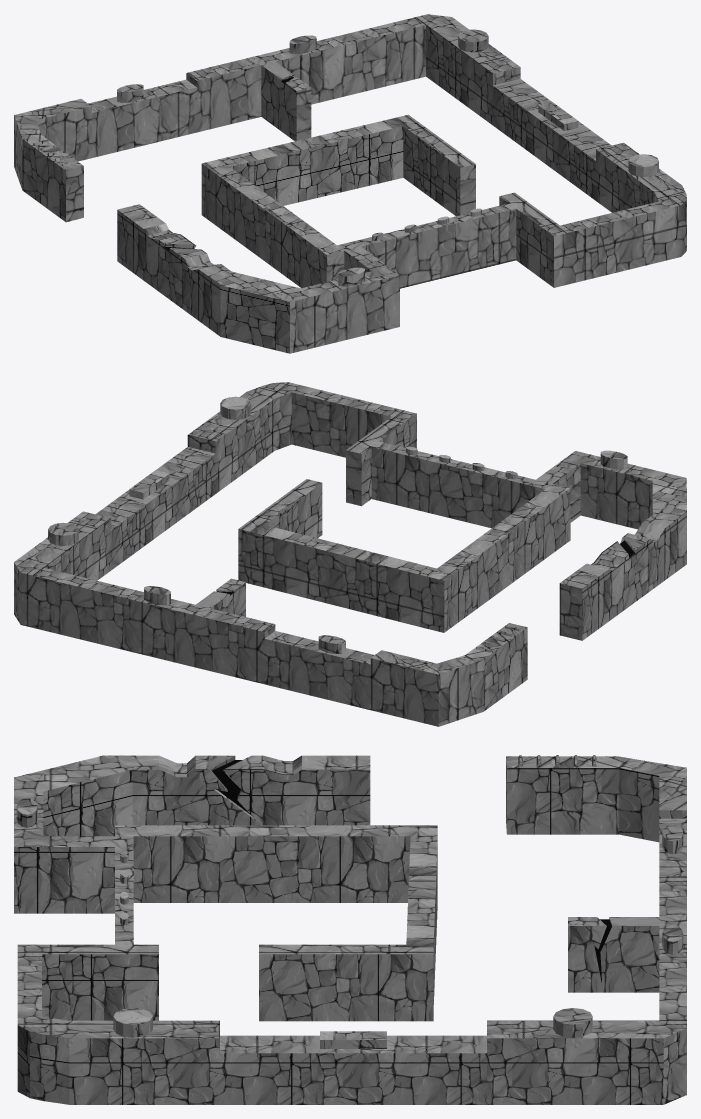
The model's file is wall3.fbx.
The picture shows the model from 3 angles, top to bottom: view 1: azimuth 30°, elevation 25°; view 2: azimuth 150°, elevation 25°; view 3: azimuth 270°, elevation 25°; orthographic projection. The views are drawn at different scales.
Visible parts, largest first — view 1: 3; view 2: 3; view 3: 3.
Boxes of the visible parts, x1=… form: 3: x1=14, y1=14, x2=686, y2=353; 3: x1=14, y1=382, x2=686, y2=726; 3: x1=14, y1=755, x2=686, y2=1104.
Bounding box in the file's own units: 1211 × 159 × 1218.
